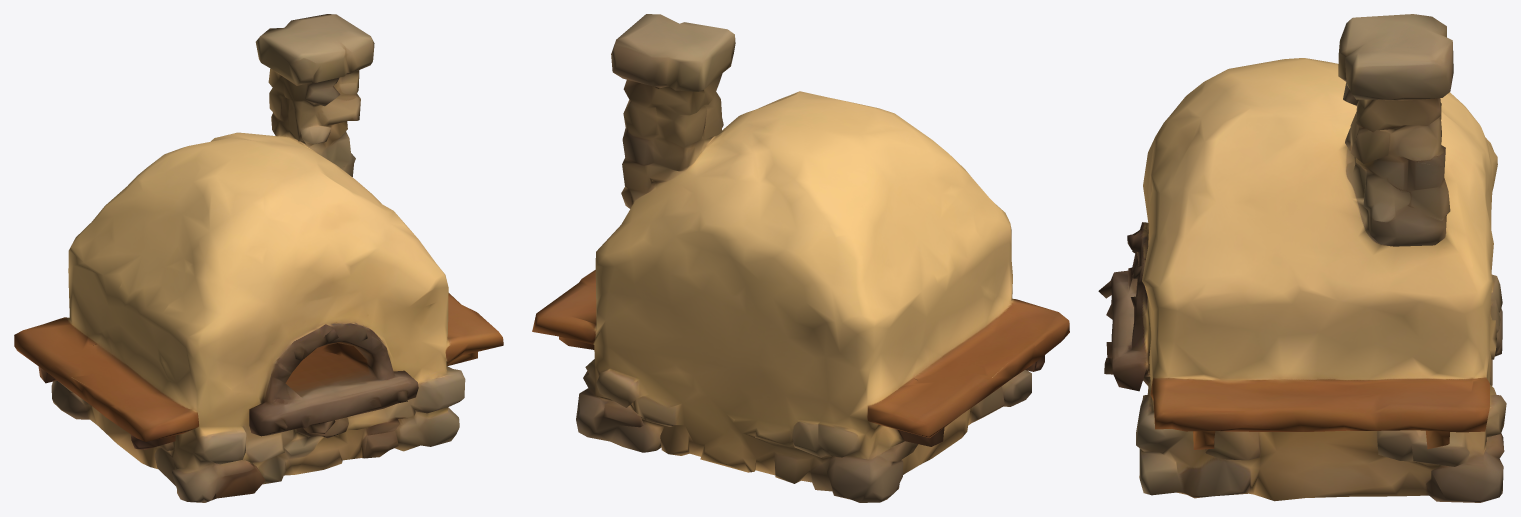
The model's file is tripo_bread_oven.glb.
The picture shows the model from 3 angles, left to right: view 1: azimuth 30°, elevation 25°; view 2: azimuth 150°, elevation 25°; view 3: azimuth 270°, elevation 25°; orthographic projection. The views are drawn at different scales.
Visible parts, largest first — view 1: bread_oven; view 2: bread_oven; view 3: bread_oven.
Part boxes in pixels (x1,y1,x2,y2): bread_oven: (14,14,503,502); bread_oven: (532,14,1069,502); bread_oven: (1098,14,1506,502).
Bounding box in the file's own units: 3.04 × 2.8 × 2.36.
Materials: 1 (1 with a texture image).
